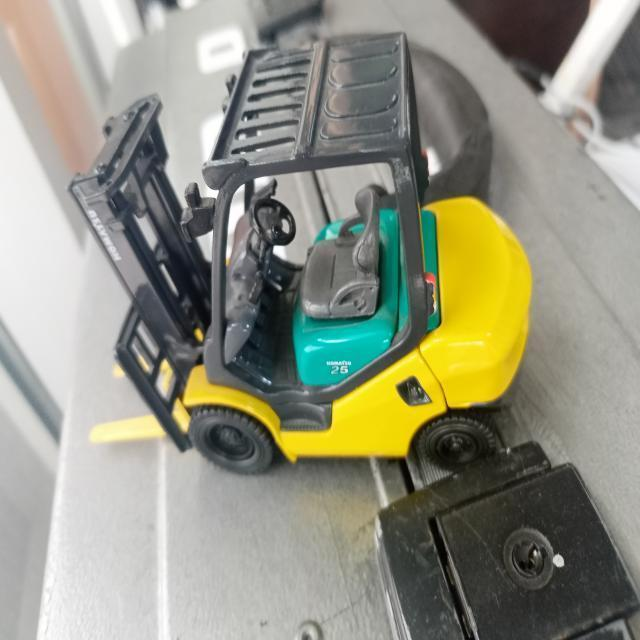forklift: (76, 50, 532, 471)
